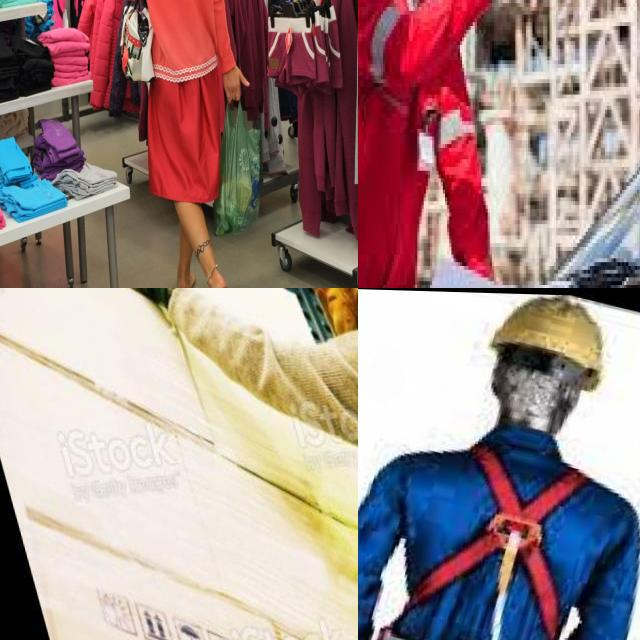Barefoots: (177, 272, 195, 288), (210, 276, 228, 288)
Harness: (408, 446, 588, 640)
person: (358, 0, 543, 288)
